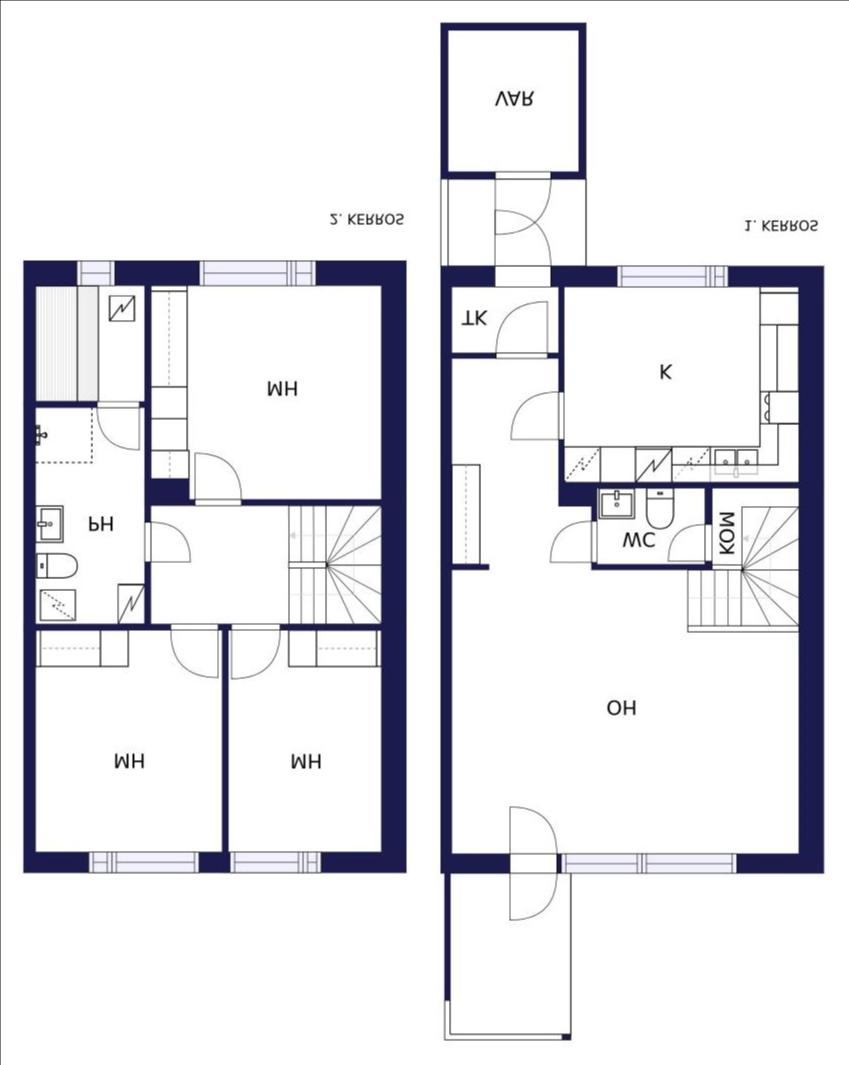door: (490, 210, 554, 288), (502, 808, 566, 875), (506, 852, 561, 926), (490, 170, 550, 235), (494, 302, 555, 364), (226, 620, 285, 680), (168, 620, 223, 678), (509, 386, 564, 444), (188, 455, 243, 512), (94, 397, 146, 455), (138, 517, 195, 567), (544, 520, 606, 564), (663, 524, 716, 562)
window: (79, 843, 214, 880), (188, 256, 320, 292), (607, 260, 740, 294), (218, 846, 336, 877), (639, 848, 746, 878), (556, 850, 647, 880), (72, 256, 121, 290)
